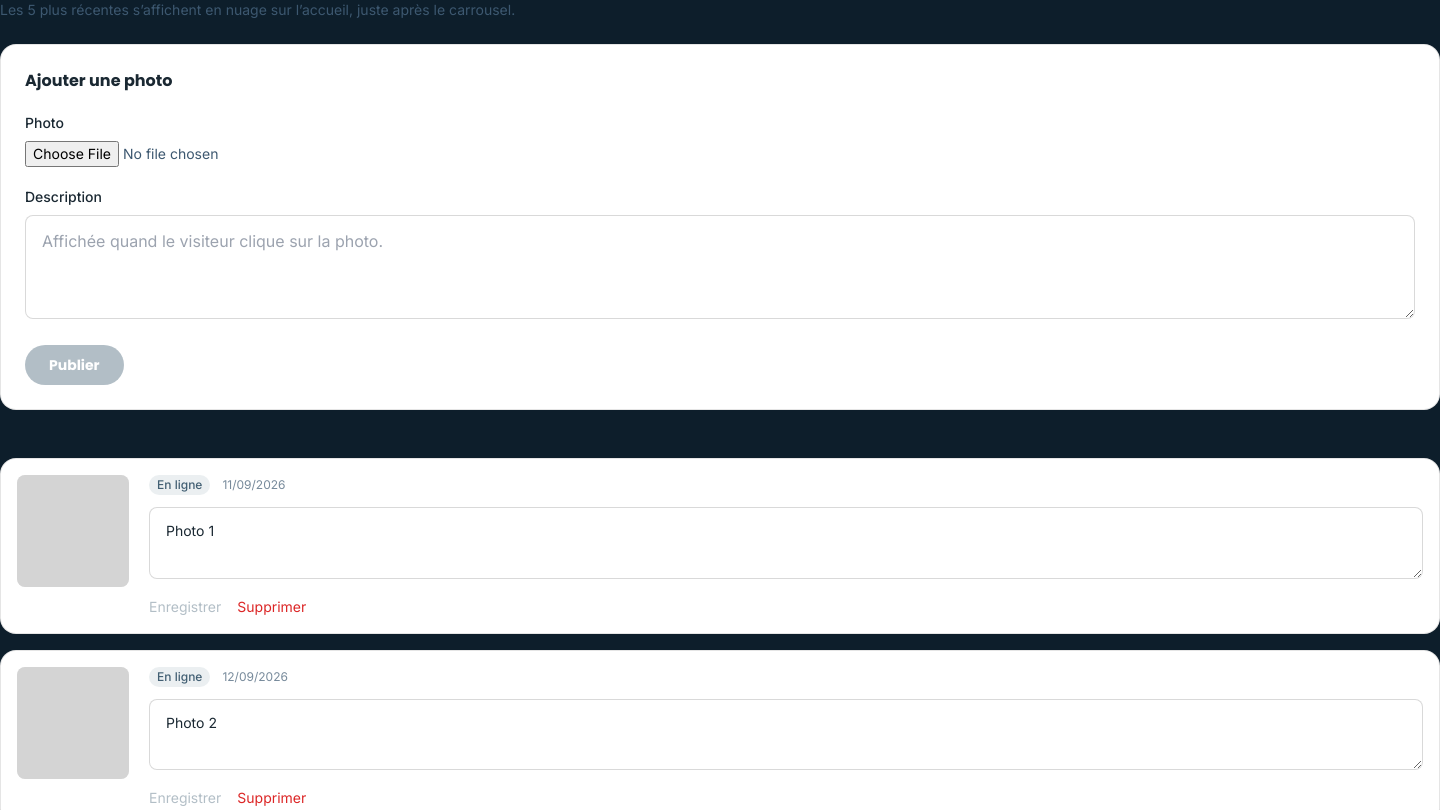
Test: supprime une photo après confirmation
The width and height of the screenshot is (1440, 810).
Click the button "Supprimer" below "11/09/2026" at (272, 606), box [237,596,306,616]
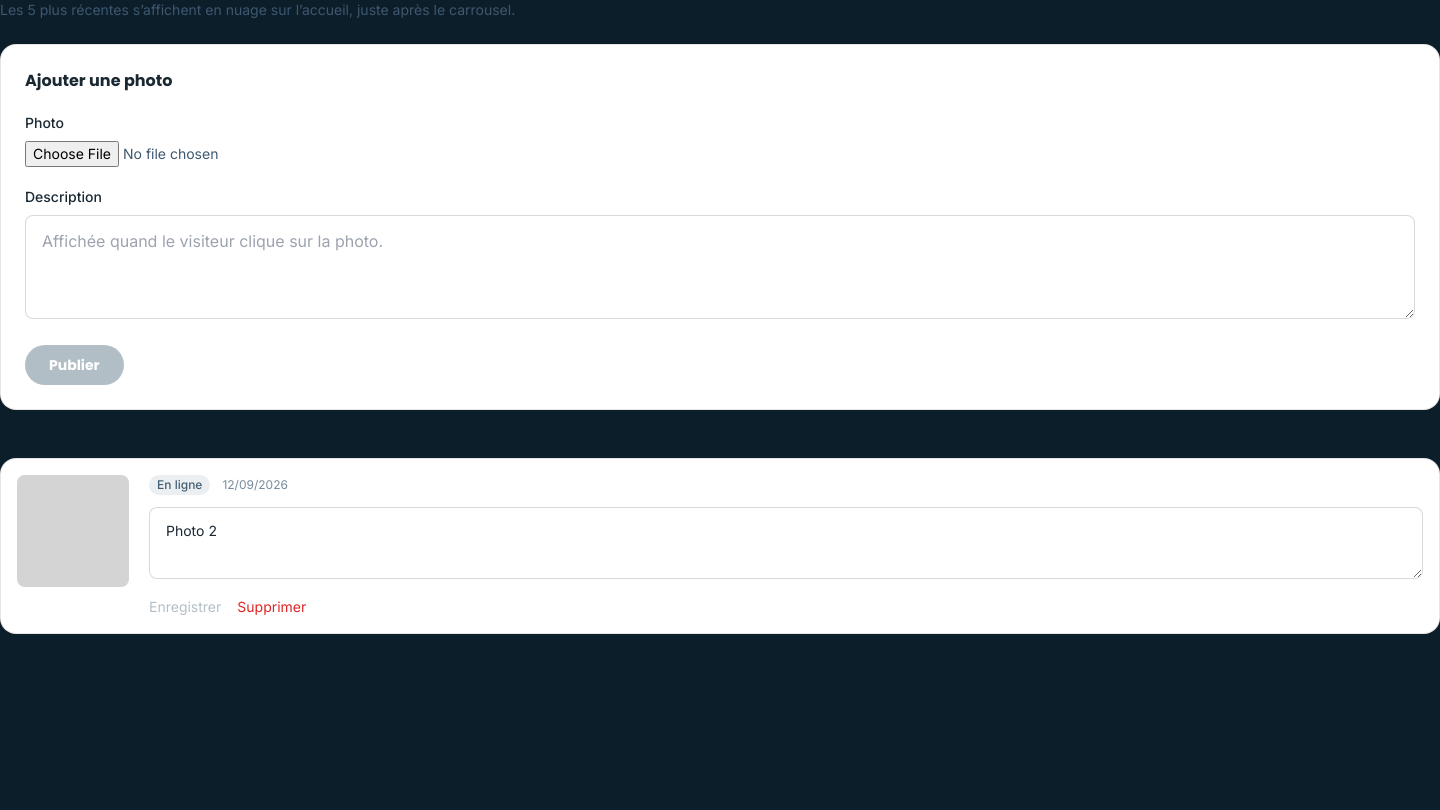
expect the number of list items is 1: met, box [0,458,1439,634]
